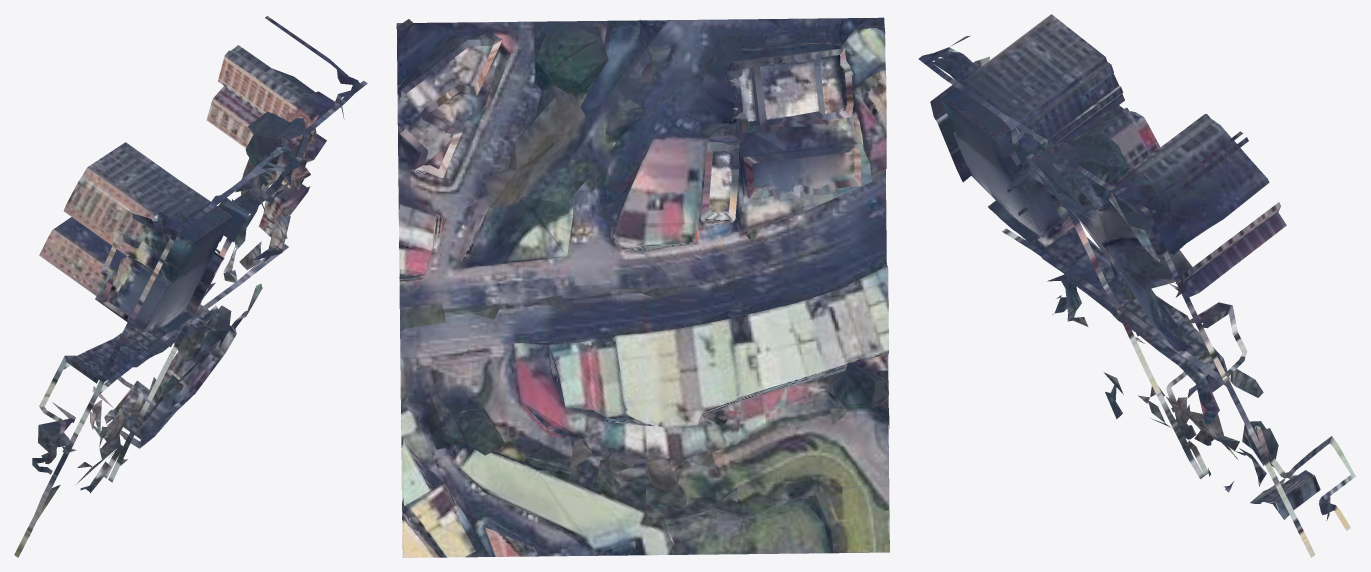
The picture shows the model from 3 angles, left to right: view 1: azimuth 30°, elevation 25°; view 2: azimuth 150°, elevation 25°; view 3: azimuth 270°, elevation 25°; orthographic projection. The views are drawn at different scales.
Bounding box in the file's own units: 152 × 158 × 142.
2 materials, 2 textured.
